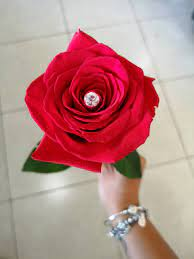lale: (15, 23, 166, 188)
